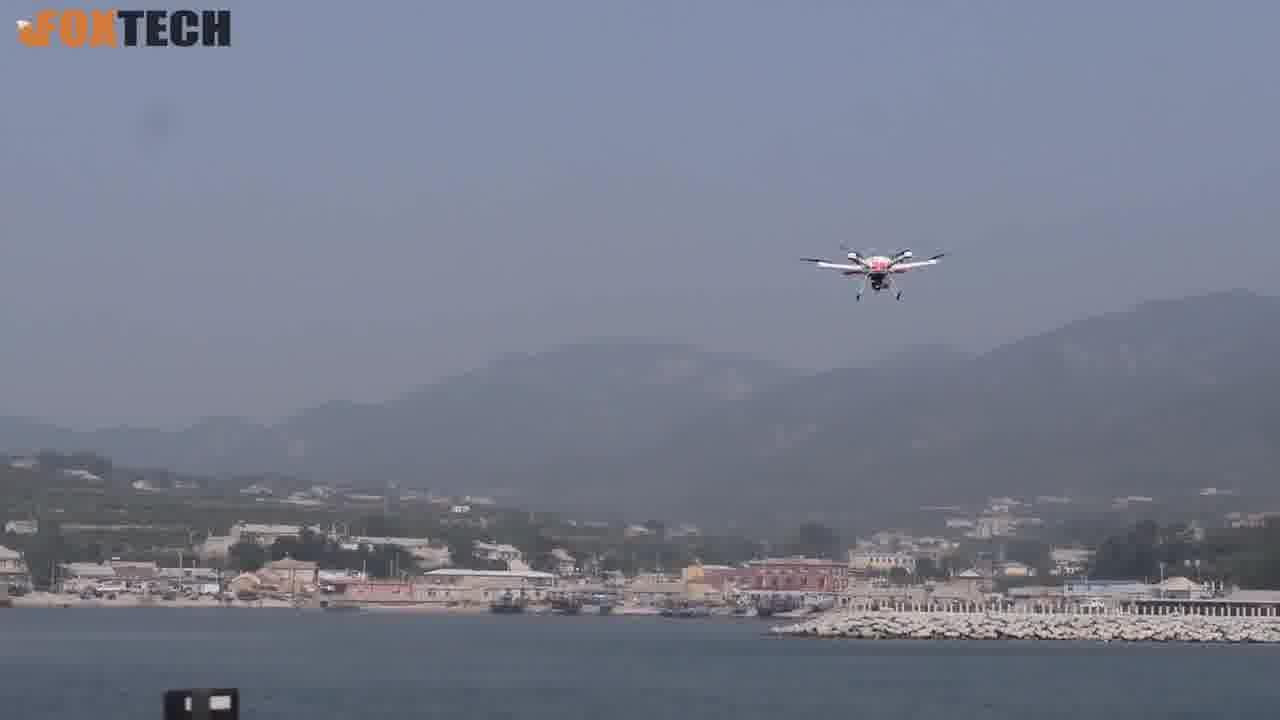drone: (792, 228, 957, 318)
